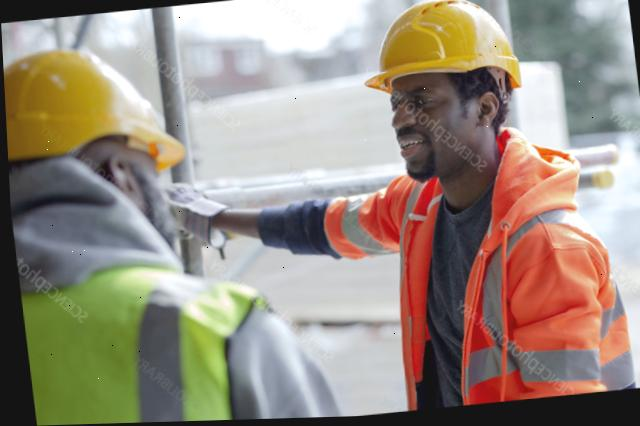helmet: (2, 38, 187, 178), (356, 0, 527, 101)
vest: (370, 140, 603, 414), (15, 259, 262, 426)
